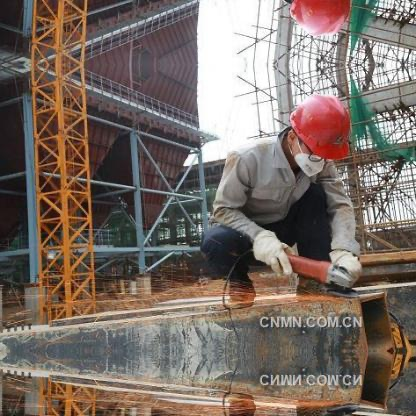Safety Helmet: (279, 87, 351, 183)
